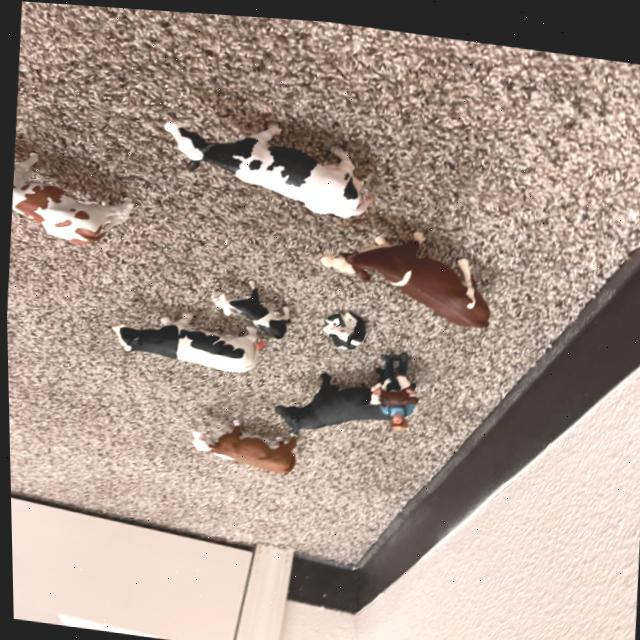cow: (153, 84, 383, 225), (317, 192, 510, 331), (0, 147, 135, 260), (106, 297, 265, 374), (268, 359, 387, 431), (185, 407, 299, 472), (207, 265, 298, 337), (316, 296, 372, 353), (367, 384, 417, 402)
person: (377, 396, 413, 420)
